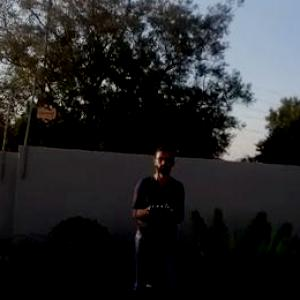follow: (127, 137, 203, 299)
